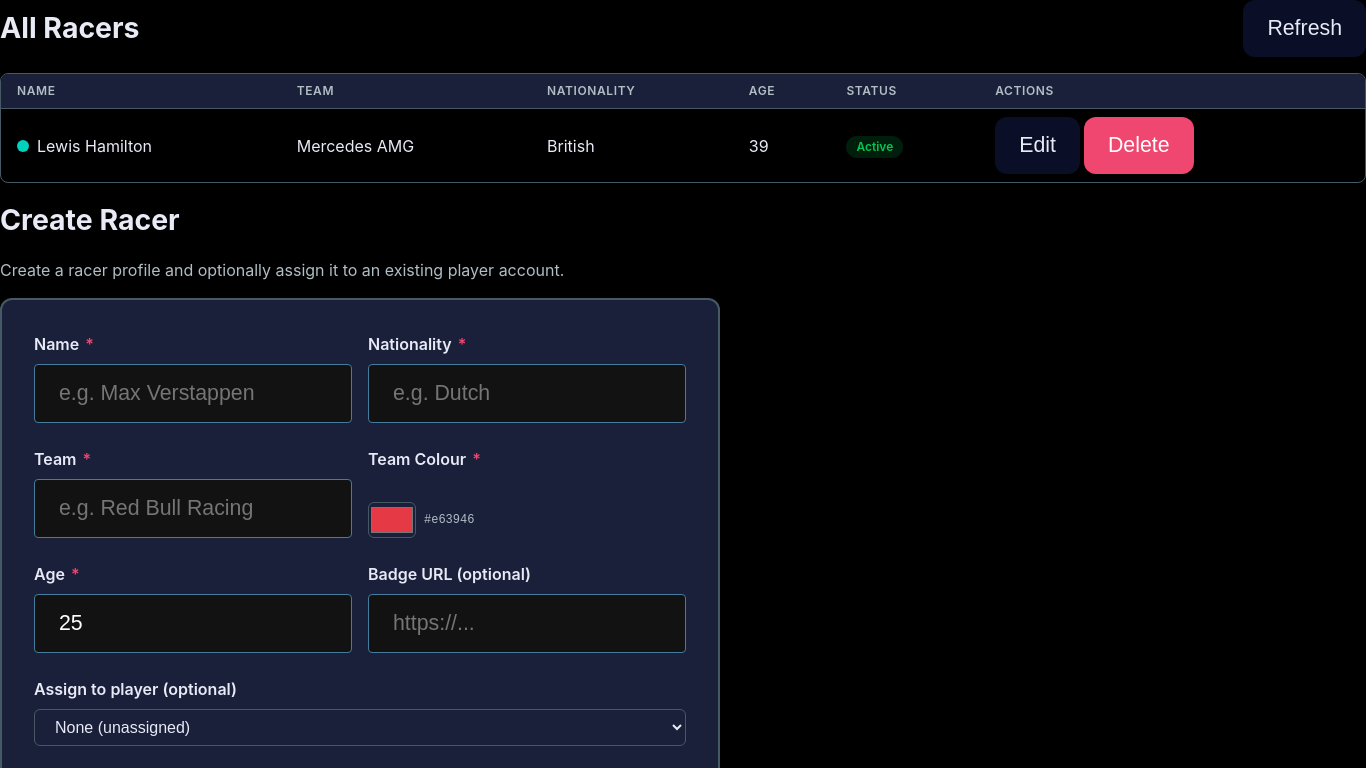
Test: RacerManagementTab › Edit racer › opens the edit modal with the racer's current values
Click the button "Edit" at (1038, 146), box [995,117,1080,174]
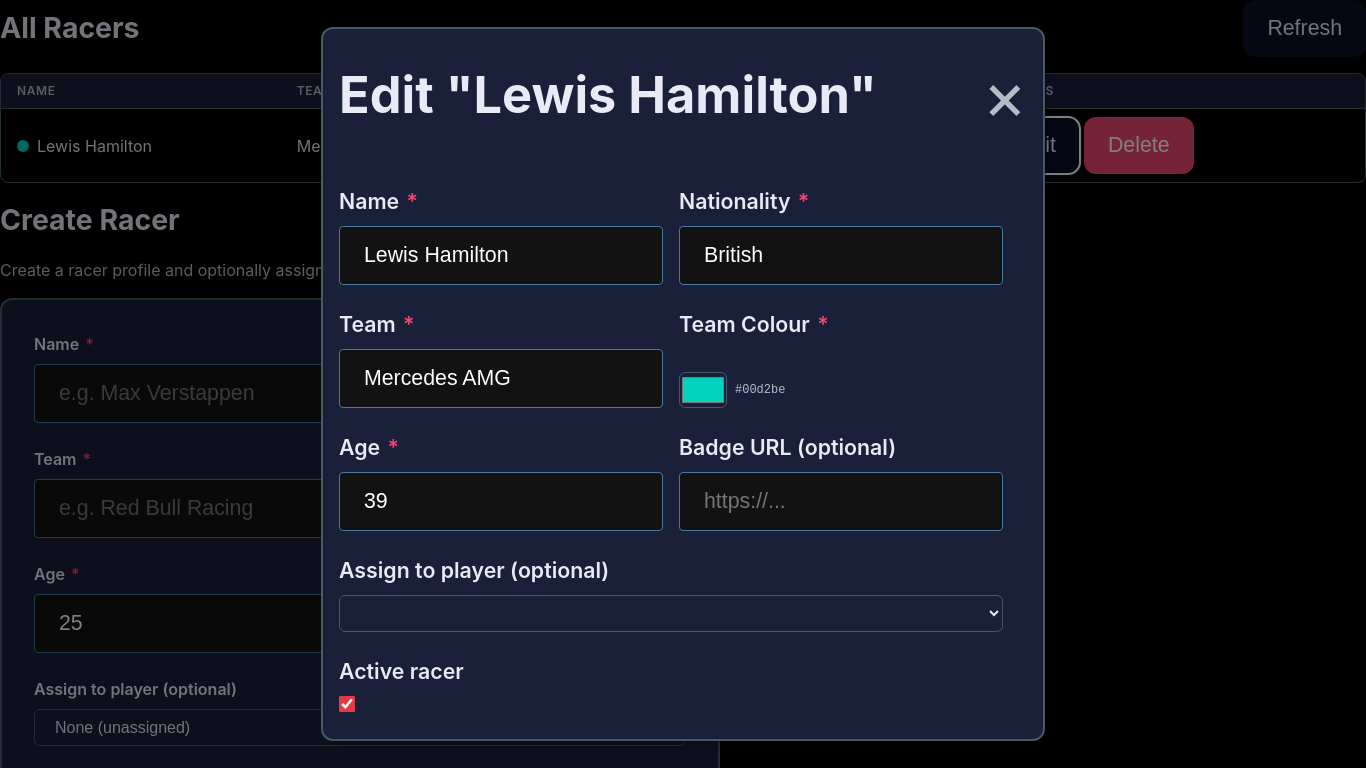
Expected: the 1st field showing "Lewis Hamilton" is shown, [339,226,663,285]
Expected: the 2nd field showing "British" is shown, [679,226,1003,285]
Expected: the field showing "Mercedes AMG" next to "#00d2be" is shown, [339,349,663,408]
